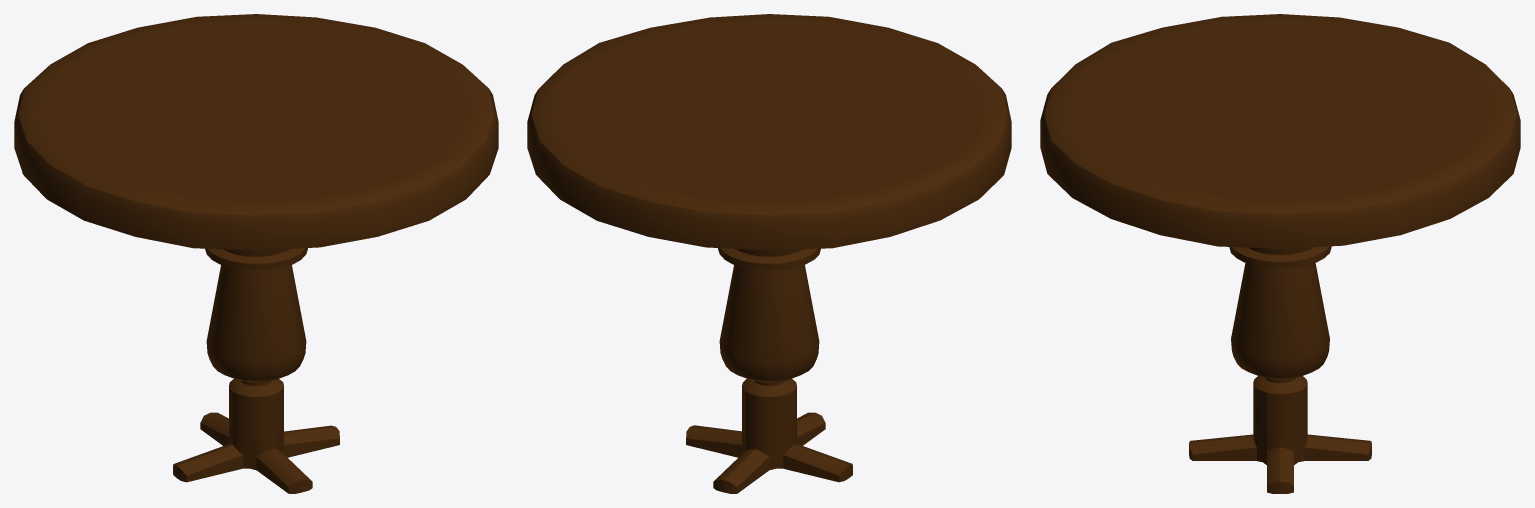
The model's file is Mesa.fbx.
3 views of the same model, side by side, from view 1: azimuth 30°, elevation 25°; view 2: azimuth 150°, elevation 25°; view 3: azimuth 270°, elevation 25° (orthographic).
Visible parts, largest first — view 1: Mesa; view 2: Mesa; view 3: Mesa.
Part boxes in pixels (<box>): Mesa: <box>14,14,498,493</box>; Mesa: <box>527,14,1011,493</box>; Mesa: <box>1040,14,1520,493</box>.
Bounding box in the file's own units: 3 × 2.37 × 3.
